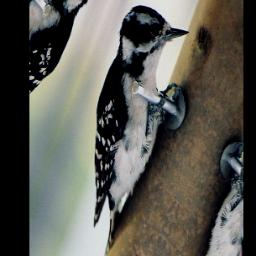Woodpecker: (50, 0, 200, 256)
